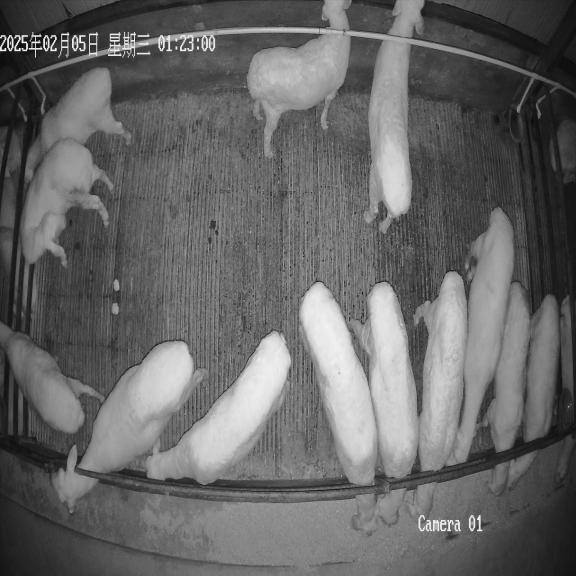eating: (299, 281, 378, 534), (348, 281, 418, 524), (407, 271, 467, 518), (475, 281, 530, 496), (506, 294, 560, 487)
stand: (49, 340, 207, 513), (146, 331, 290, 484), (446, 208, 514, 465), (247, 0, 351, 157), (364, 0, 424, 232), (25, 68, 130, 180), (20, 139, 112, 266), (0, 322, 103, 433)
